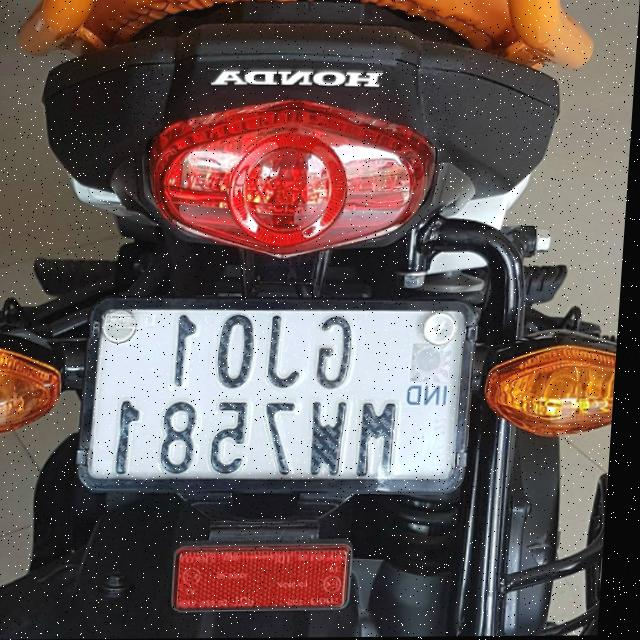plate: (76, 296, 489, 502)
